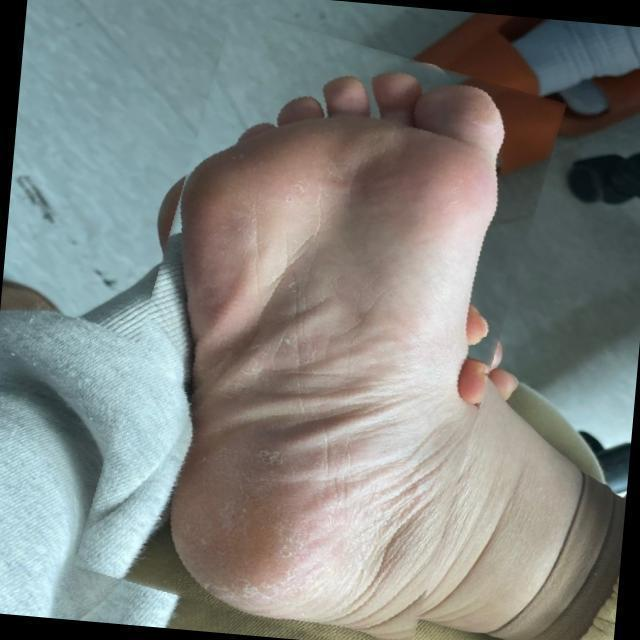No_Shoes: (139, 66, 524, 595)
